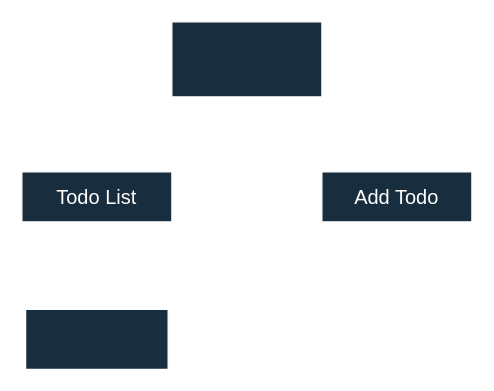
Some shapes in this 494 by 391 pixel diagram are drawn without their labels. Here are the shapes that lost their labels. From the top down, the box of each, then its label:
(171, 21, 322, 97): TodoApp
(24, 308, 168, 369): Todo
